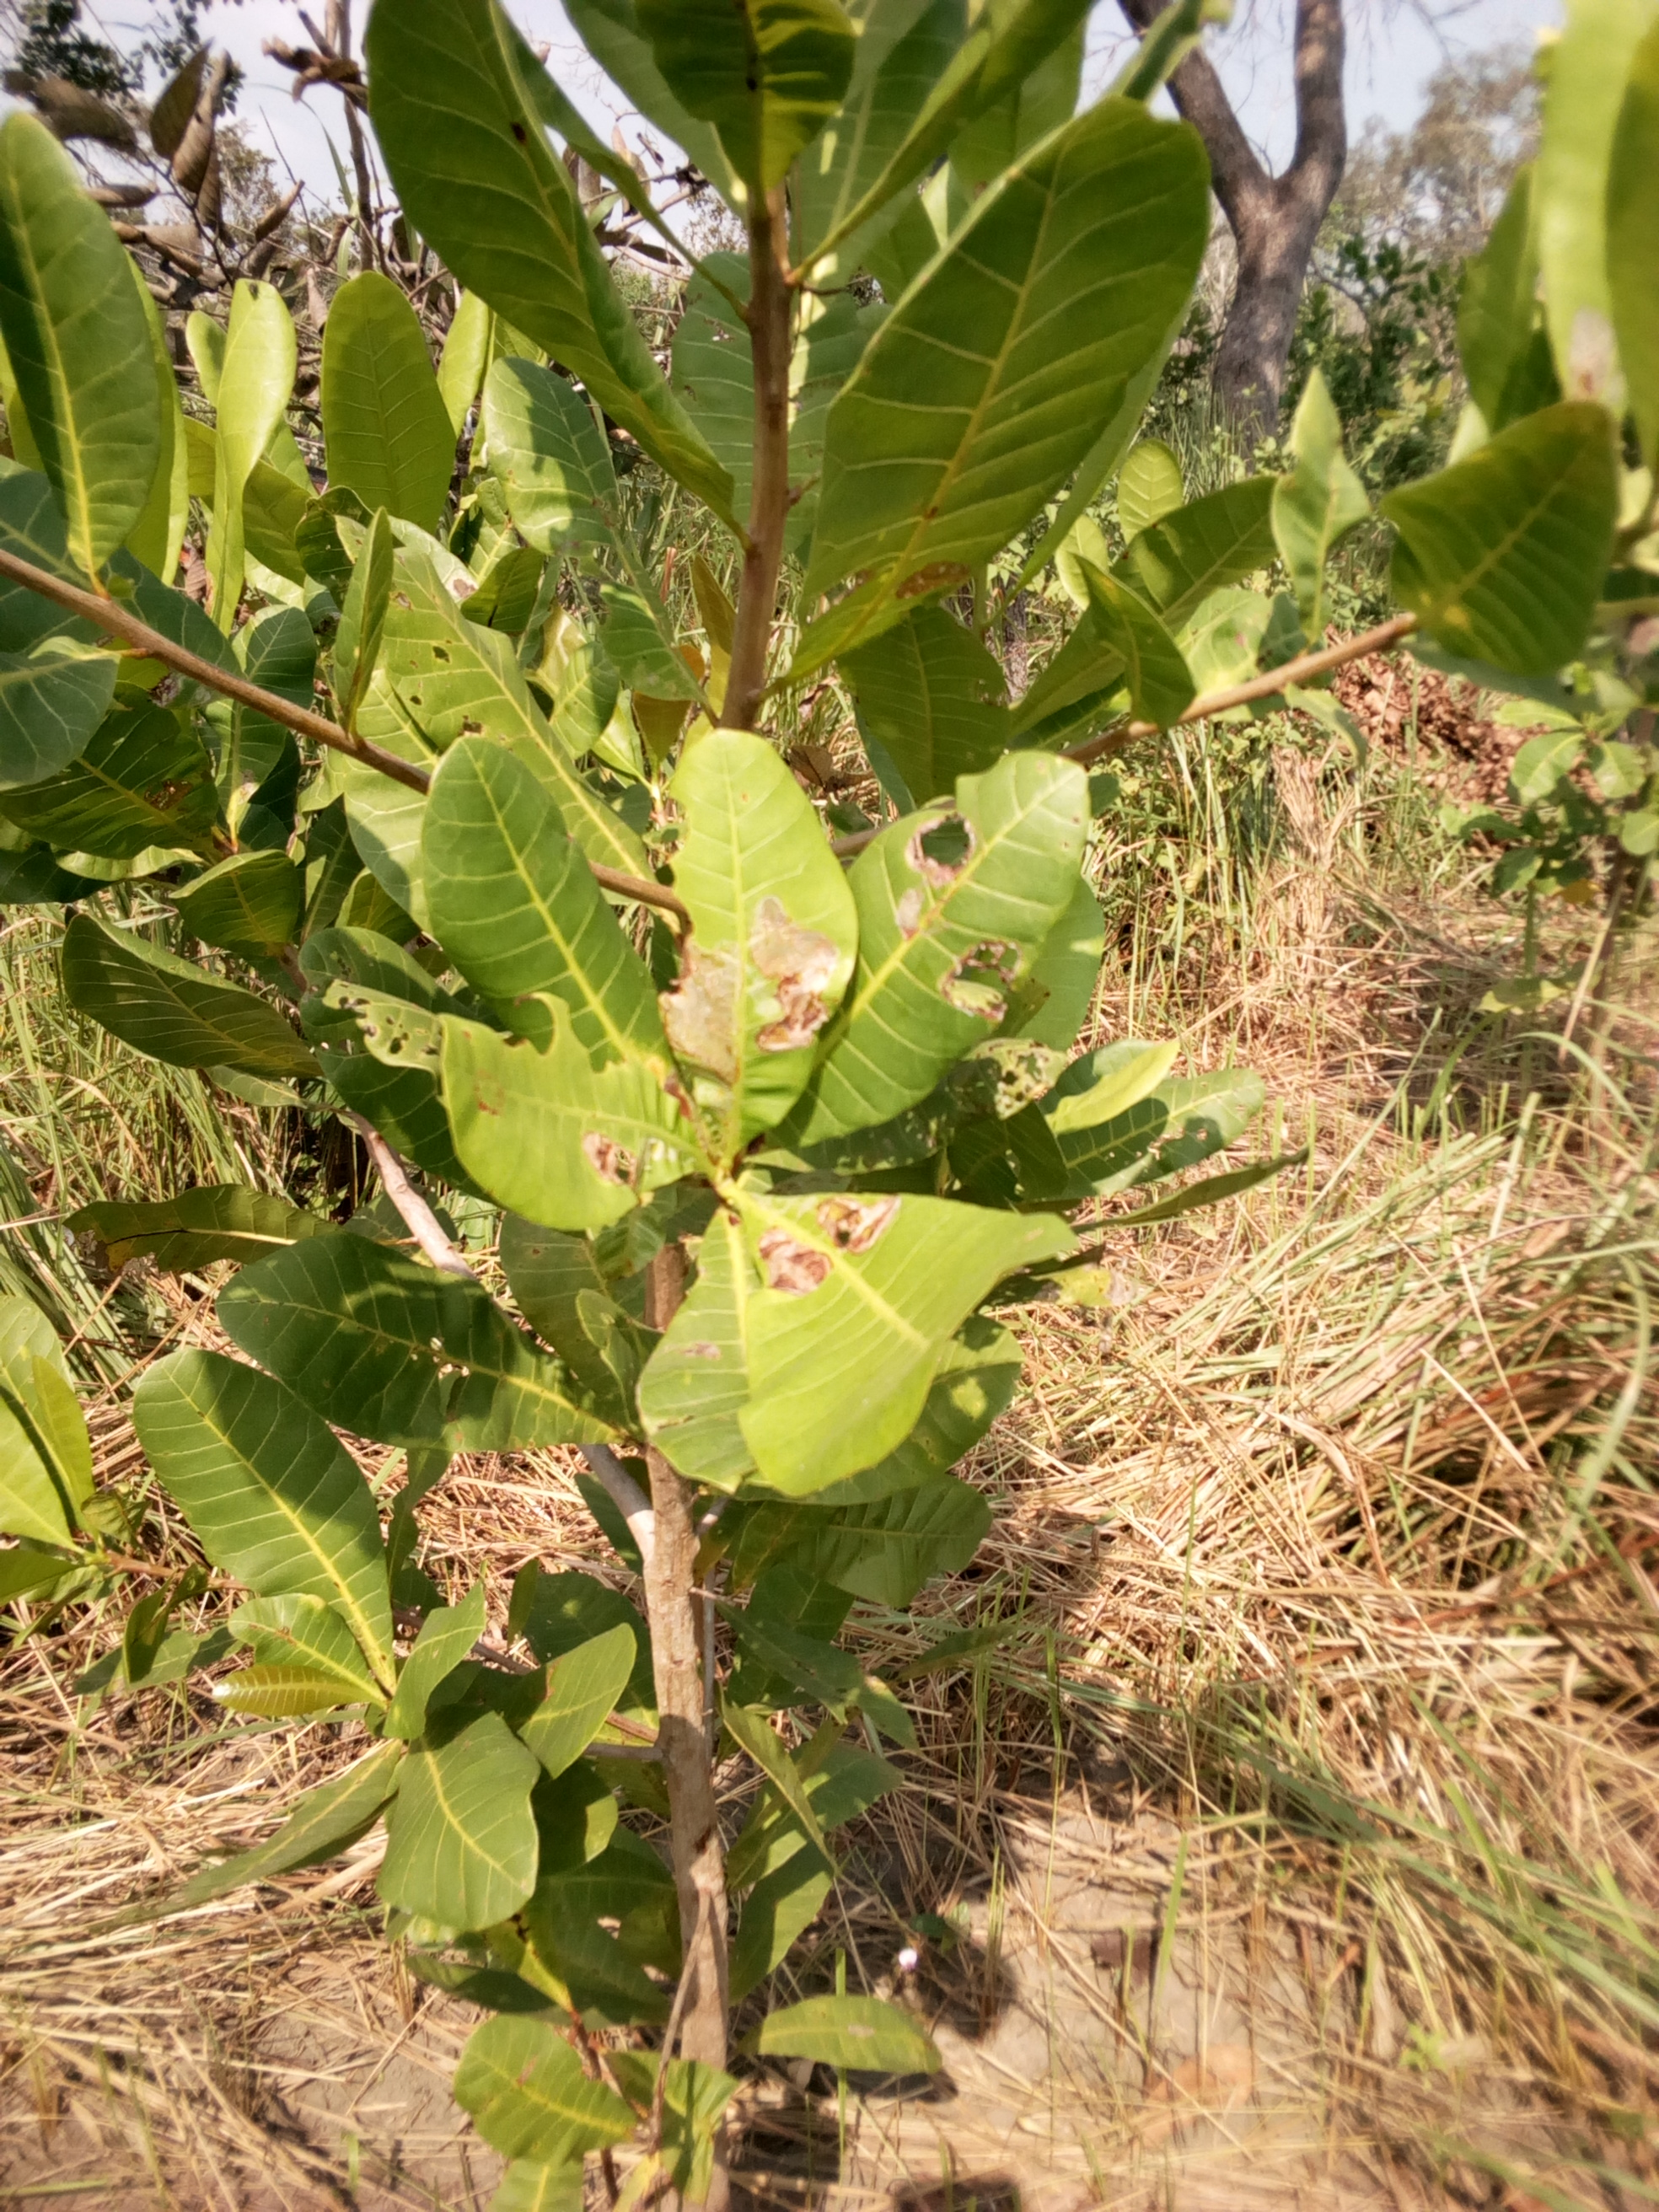Anoplonemis curvipes: (678, 1170, 1119, 1503), (300, 972, 749, 1261), (653, 714, 877, 1186)
